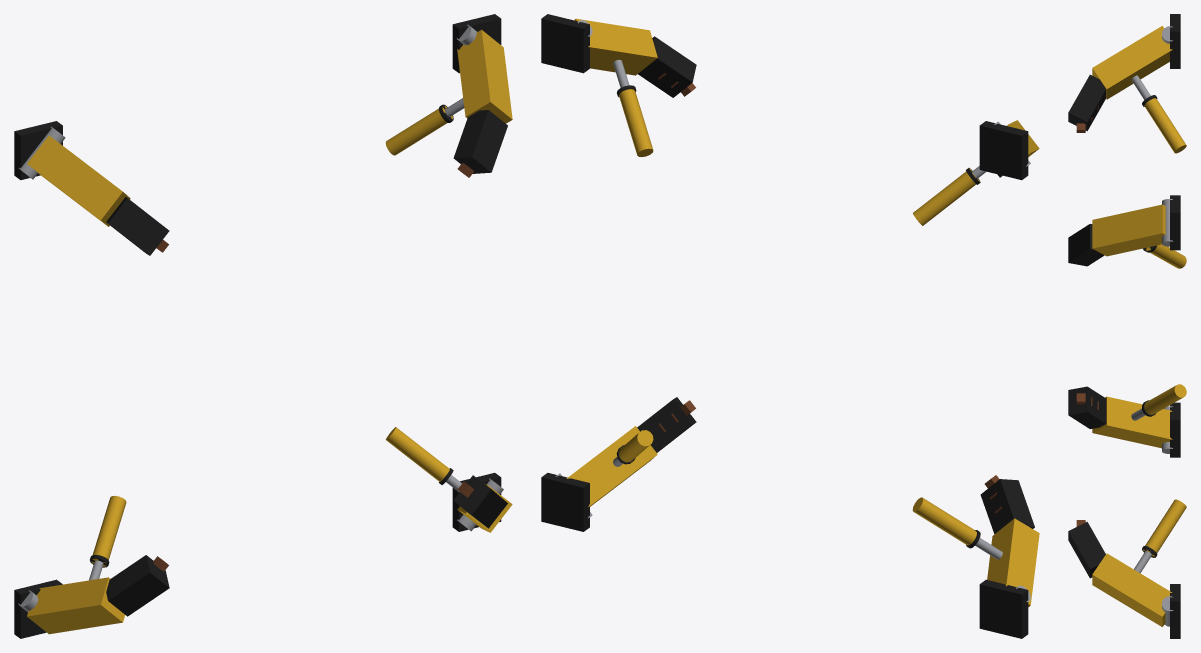
The model's file is trh_clamp.obj.
3 views of the same model, side by side, from view 1: azimuth 30°, elevation 25°; view 2: azimuth 150°, elevation 25°; view 3: azimuth 270°, elevation 25° (orthographic). The views are drawn at different scales.
Parts seen in each view (by area): view 1: trh_clamp; view 2: trh_clamp; view 3: trh_clamp.
Boxes of the visible parts, x1=… form: trh_clamp: x1=14, y1=14, x2=512, y2=638; trh_clamp: x1=541, y1=14, x2=1039, y2=638; trh_clamp: x1=1068, y1=14, x2=1186, y2=638.
Size of the model in its own units: 5.24 by 5.24 by 1.31.
